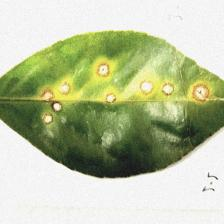canker: (29, 61, 210, 129)
